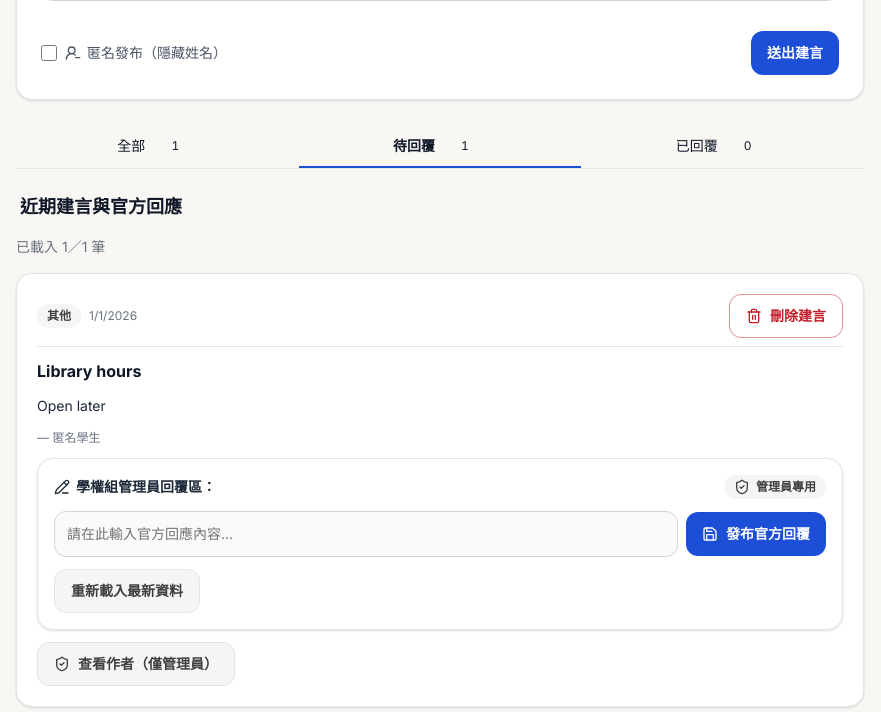
Test: retains a delayed conflict and the original draft base after leaving and returning
(page scrolled)
Expected: the text "Open later" is shown, x1=37 y1=397 x2=106 y2=414
Type "Retained draft" into the field named "回覆「Library hours」". click: (366, 534)
box: x1=54 y1=511 x2=678 y2=557
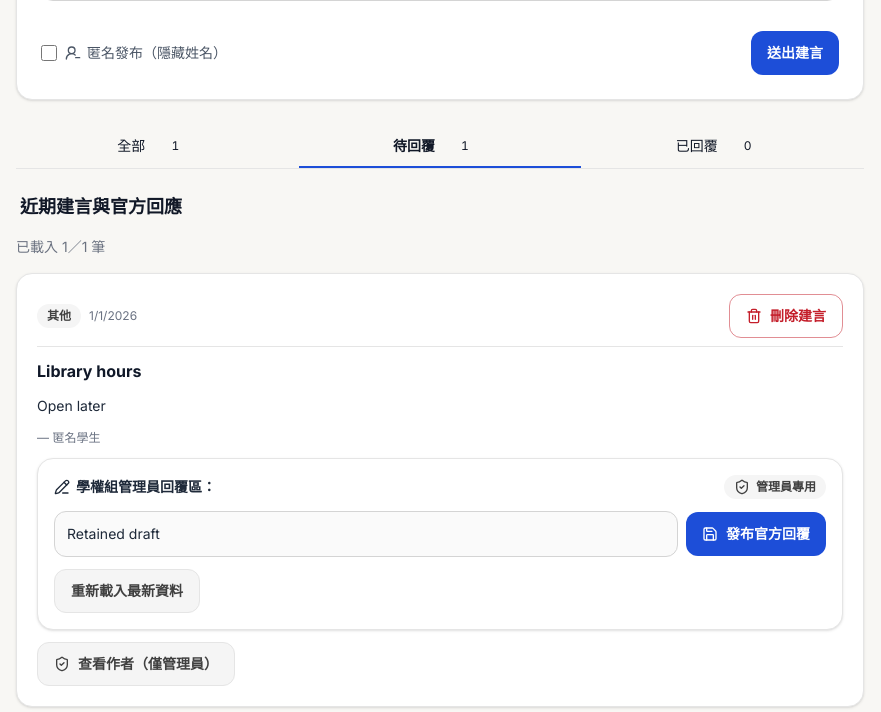
Click the button "發布官方回覆". click: (756, 534)
box: x1=686 y1=512 x2=826 y2=556
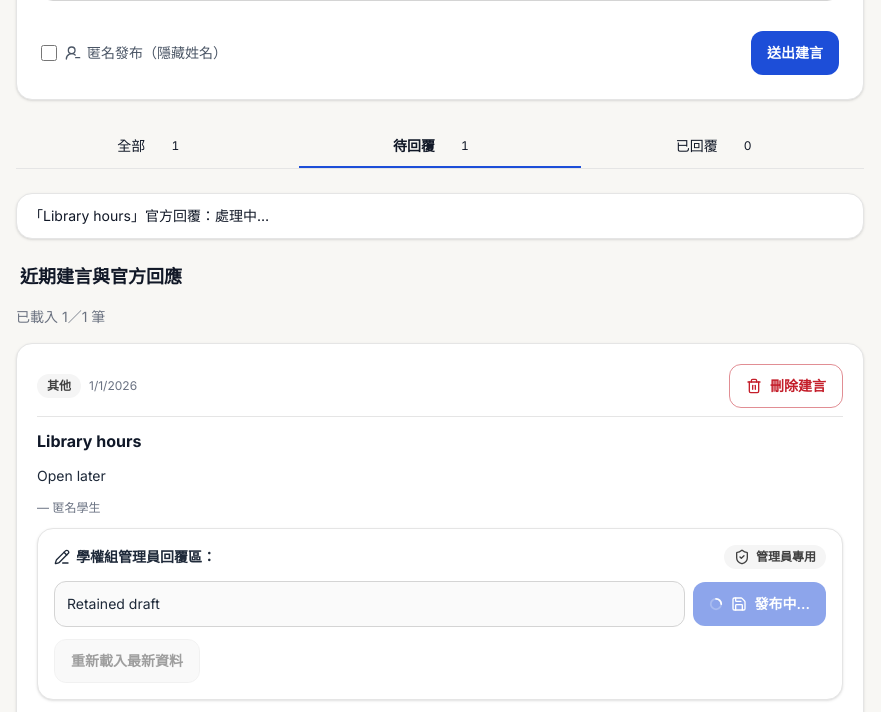
Click the tab "已回覆 0". click: (697, 146)
box: x1=581 y1=124 x2=864 y2=168
(page scrolled)
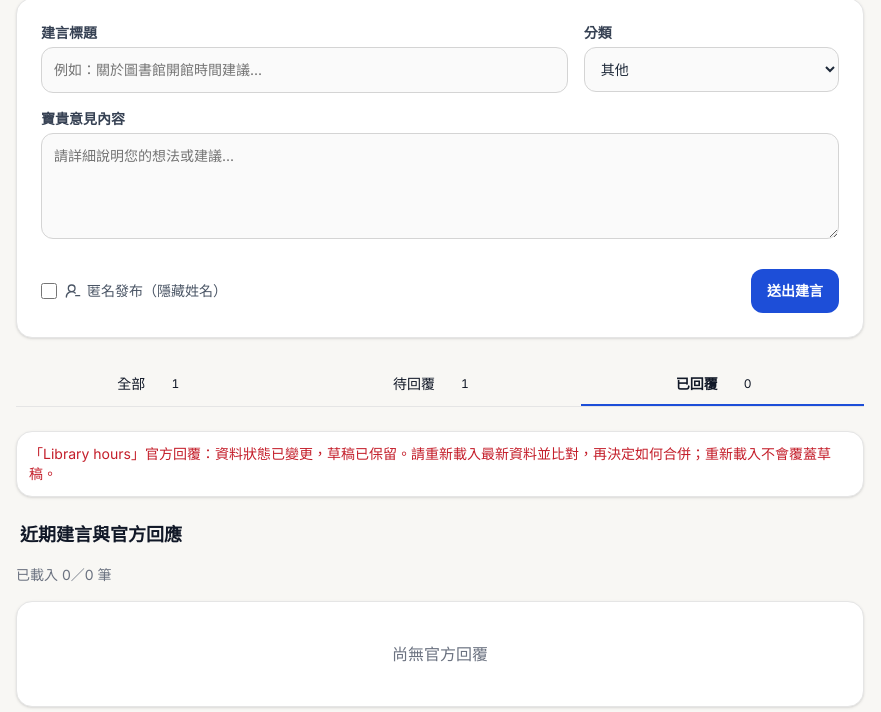
When the rejection arrives while the card is absent.
Click the tab "待回覆 1". click: (414, 384)
box: x1=299 y1=362 x2=581 y2=406
(page scrolled)
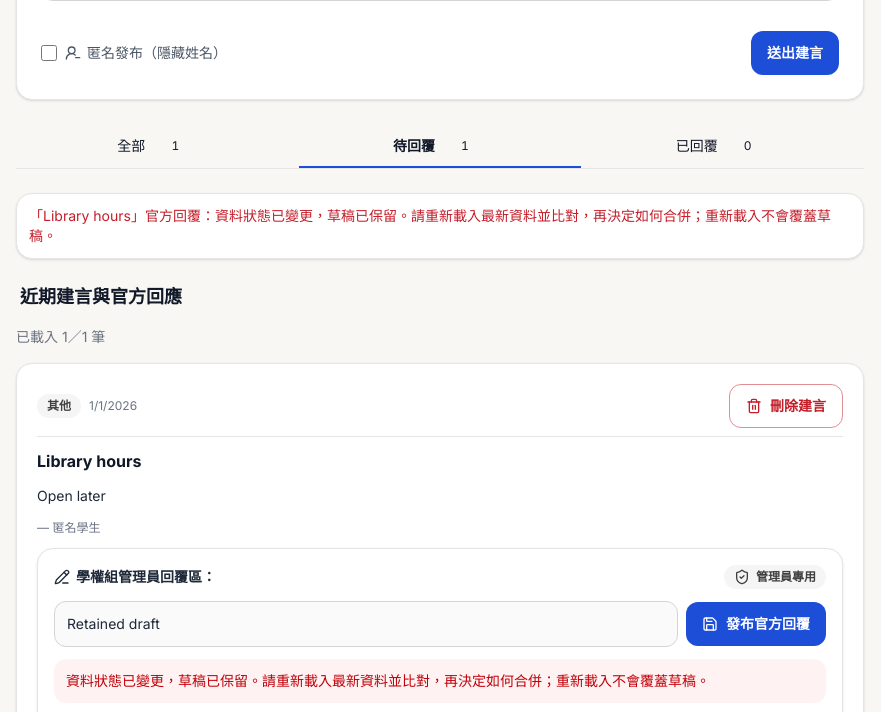
Result: the message "資料狀態已變更，草稿已保留。請重新載入最新資料並比對，再決定如何合併；重新載入不會覆蓋草稿。" is shown at x1=54 y1=659 x2=826 y2=703
Result: the field named "回覆「Library hours」" holds "Retained draft" at x1=54 y1=601 x2=678 y2=647
Result: the button "發布官方回覆" is enabled at x1=686 y1=602 x2=826 y2=646
